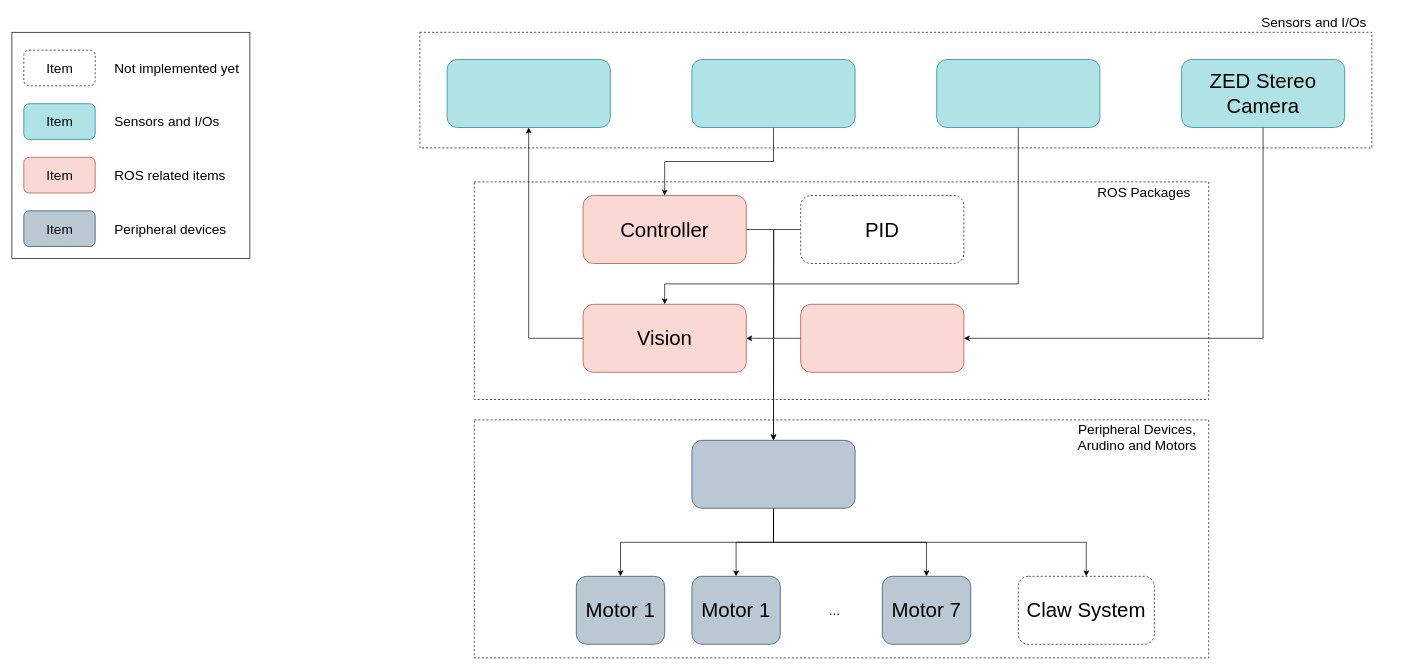
Image size: 1404x670. Some labels were removed from this diagram. Each missing label, with the box of its shape:
Arduino: (691, 440, 855, 508)
Display: (446, 59, 610, 128)
Web Camera: (936, 59, 1100, 128)
xbox controller: (691, 59, 855, 128)
ZED: (800, 304, 964, 372)
